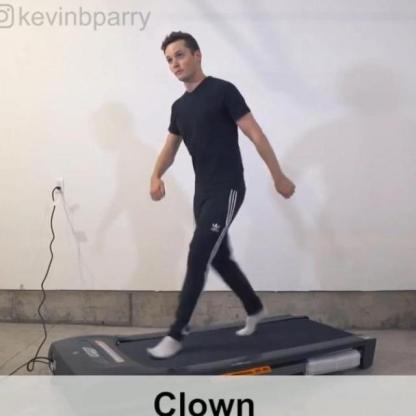person: (140, 25, 285, 339)
